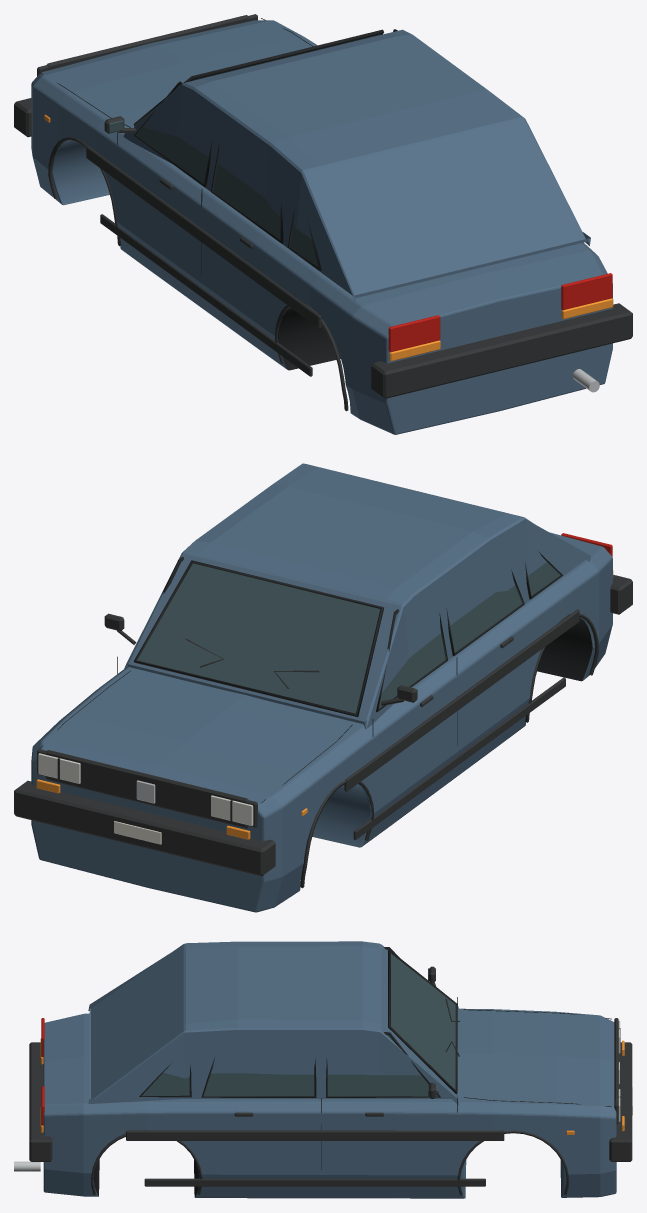
Rendered from golf_2.glb.
The picture shows the model from 3 angles, top to bottom: view 1: azimuth 30°, elevation 25°; view 2: azimuth 150°, elevation 25°; view 3: azimuth 270°, elevation 25°; orthographic projection. The views are drawn at different scales.
Visible parts, largest first — view 1: BODY - exported to game; view 2: BODY - exported to game; view 3: BODY - exported to game.
Part boxes in pixels (x1,y1,x2,y2): BODY - exported to game: (14, 14, 632, 434); BODY - exported to game: (14, 463, 632, 912); BODY - exported to game: (14, 941, 632, 1198).
Size of the model in its own units: 1.97 by 1.26 by 4.17.
